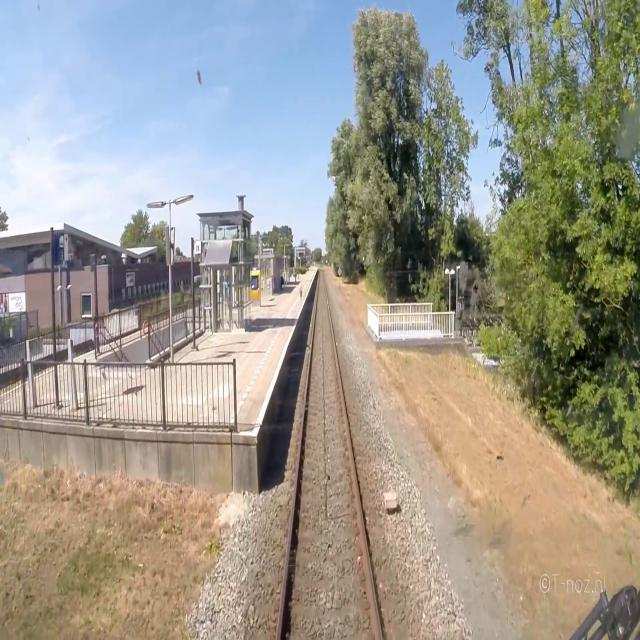rail-track: (281, 265, 378, 639)
